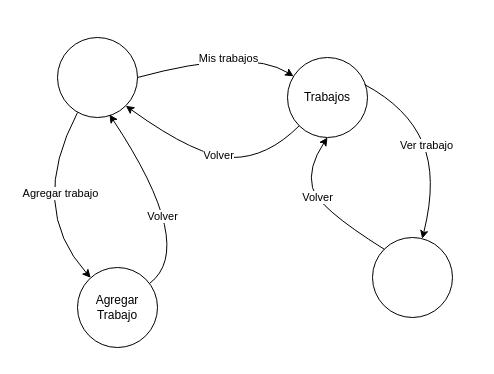
This 494x374 diagram has some shape labels left out. Here are the shapes that lost their labels. From the top down, the box of each, then its label:
(56, 36, 138, 118): Login
(372, 236, 452, 318): Información Trabajo
